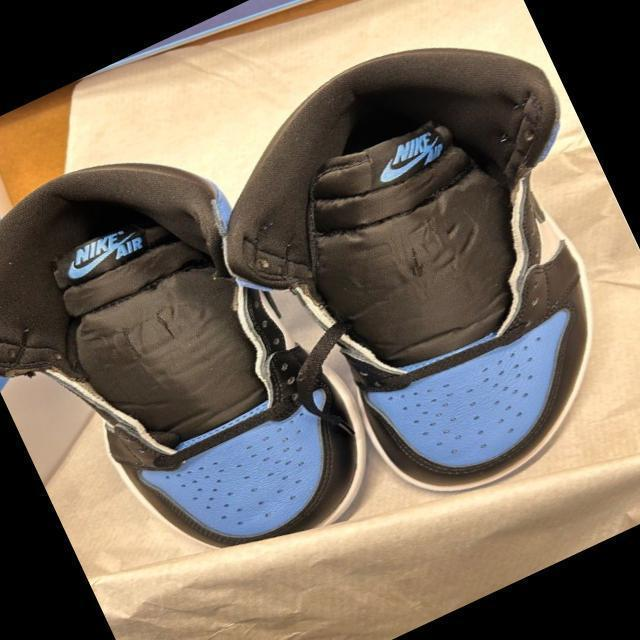nike original jordan 1: (169, 0, 640, 550), (0, 103, 398, 624)
